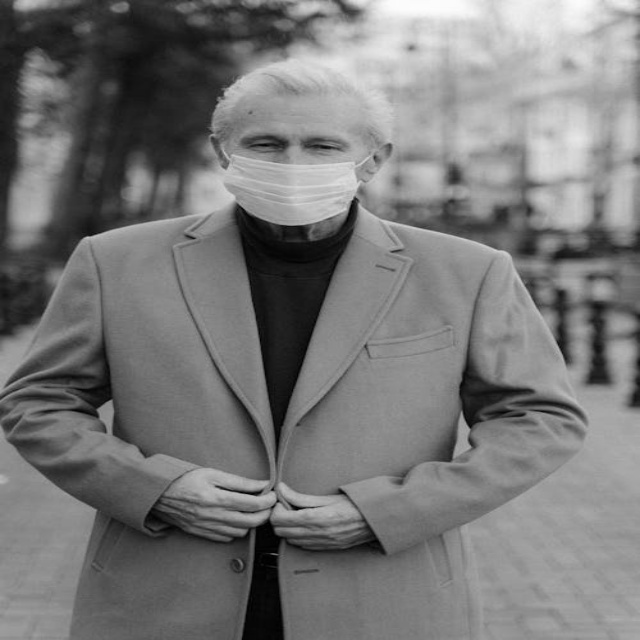Mascara: (219, 147, 369, 225)
Sin_gafas: (233, 126, 356, 161)
Sin_guantes: (148, 453, 276, 550), (271, 475, 378, 555)
